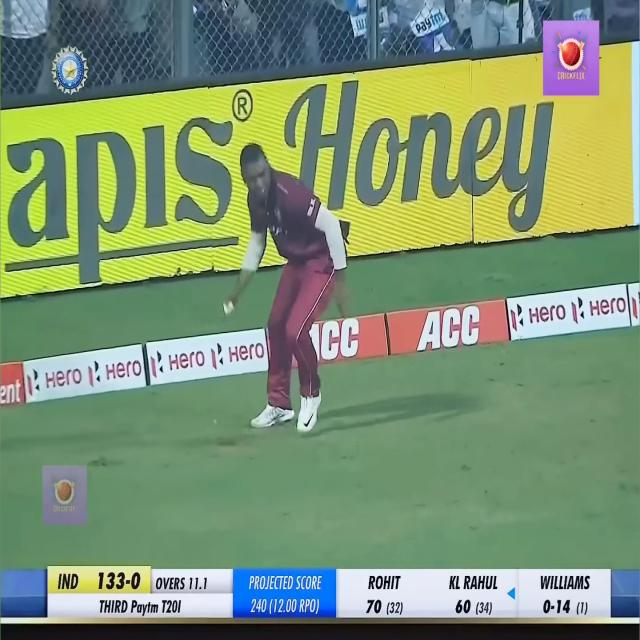fully_visible: (128, 590, 161, 624)
